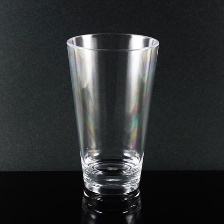glass: (57, 27, 165, 199)
